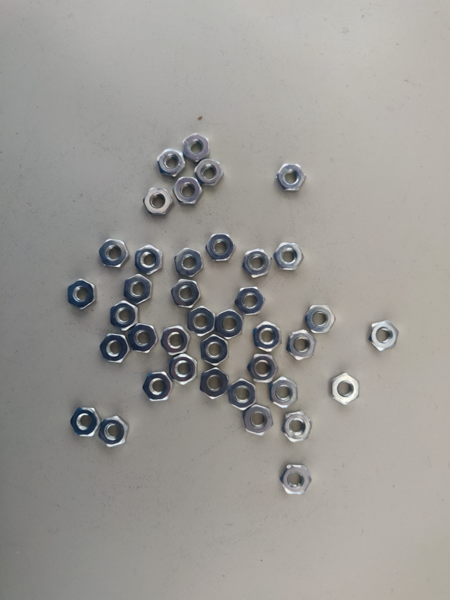nut: (228, 377, 259, 411), (69, 406, 101, 438), (98, 238, 130, 270), (280, 464, 312, 495), (97, 417, 128, 449), (168, 355, 199, 387), (143, 185, 174, 217), (368, 320, 398, 353), (160, 325, 190, 358), (244, 406, 275, 437), (330, 374, 360, 406), (306, 303, 336, 335), (286, 329, 316, 361), (252, 321, 282, 353), (248, 352, 278, 384), (269, 376, 299, 408), (199, 368, 229, 400), (127, 322, 157, 354), (110, 300, 140, 332), (100, 333, 130, 364), (142, 372, 172, 403), (65, 281, 95, 311), (282, 412, 312, 442), (195, 158, 225, 188), (182, 132, 212, 162), (156, 147, 186, 177), (173, 174, 203, 204), (273, 242, 303, 272), (206, 233, 236, 263), (241, 249, 271, 279), (235, 287, 265, 317), (124, 275, 154, 305), (171, 279, 201, 309), (187, 306, 217, 336), (213, 310, 243, 340), (277, 162, 306, 192), (174, 248, 204, 277), (133, 245, 162, 275), (200, 337, 229, 367)
